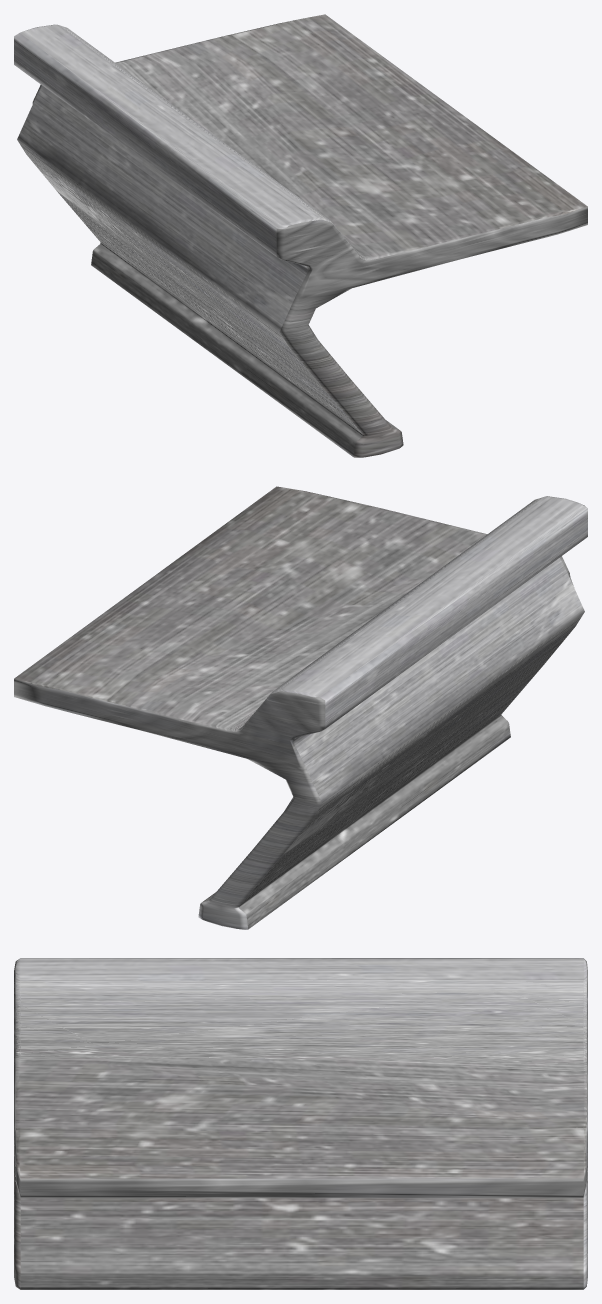
Rendered from TableNew.fbx.
The picture shows the model from 3 angles, top to bottom: view 1: azimuth 30°, elevation 25°; view 2: azimuth 150°, elevation 25°; view 3: azimuth 270°, elevation 25°; orthographic projection. The views are drawn at different scales.
Parts seen in each view (by area): view 1: pCube1; view 2: pCube1; view 3: pCube1.
Part boxes in pixels (<box>): pCube1: <box>14,14,587,457</box>; pCube1: <box>14,486,587,929</box>; pCube1: <box>14,958,587,1289</box>.
Bounding box in the file's own units: 4.86 × 3.77 × 7.24.
